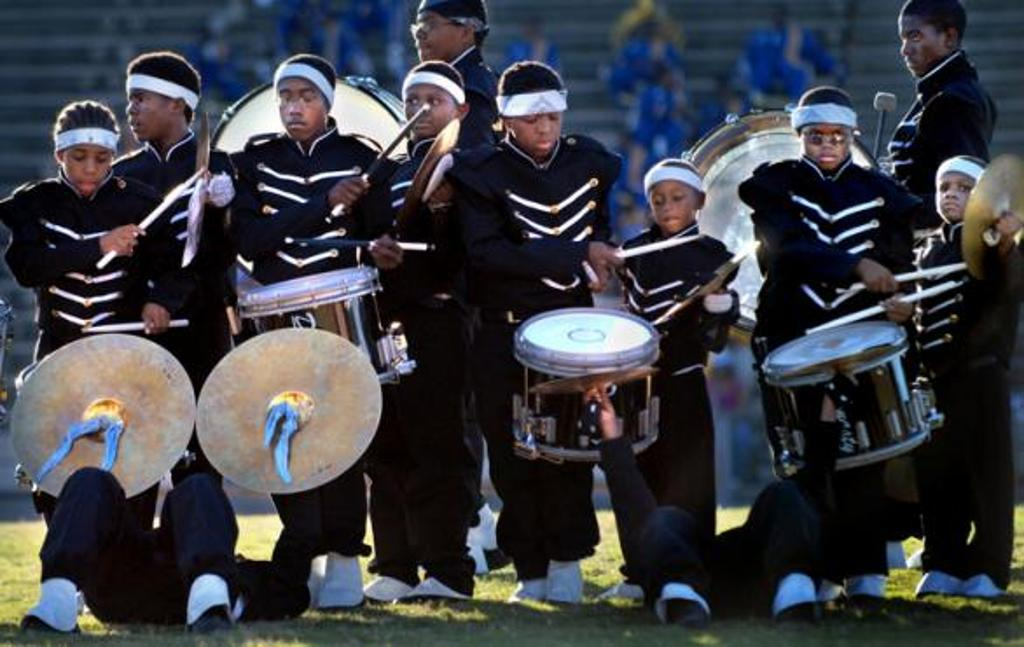face: (277, 78, 326, 140), (62, 136, 112, 193), (899, 19, 947, 77), (405, 86, 459, 137), (514, 100, 563, 156), (802, 118, 853, 169), (650, 182, 700, 232), (416, 11, 465, 62), (127, 89, 175, 141), (937, 170, 977, 222)
